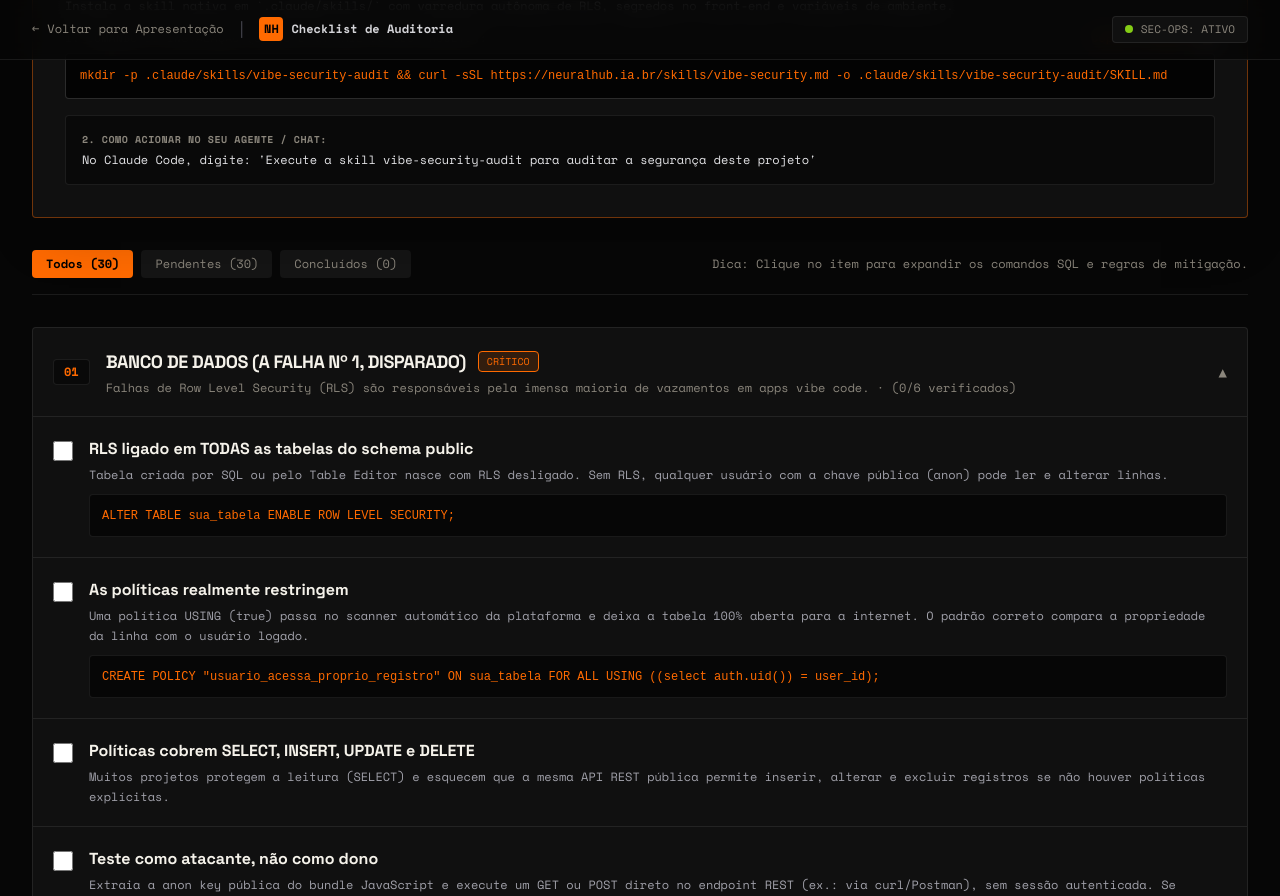
AuditoriaPage & Subpages › atualiza o progresso e percentual ao marcar itens do checklist
(page scrolled)
Click the checkbox labelled "RLS ligado em TODAS as tabelas do schema public". click: point(63, 450)
box: [53, 440, 73, 460]
(page scrolled)
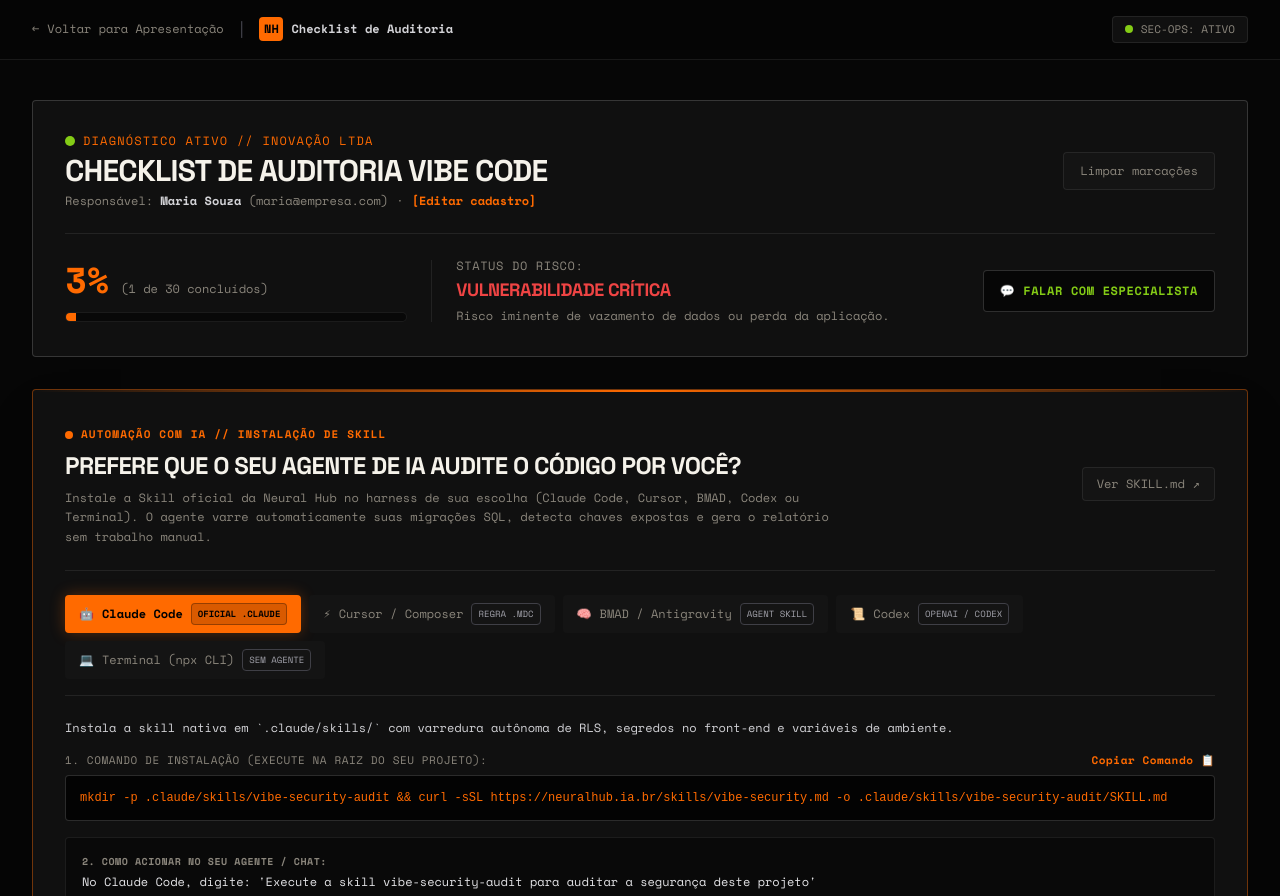
Expected: the text "(1 de 30 concluídos)" is shown, [121, 280, 268, 296]
